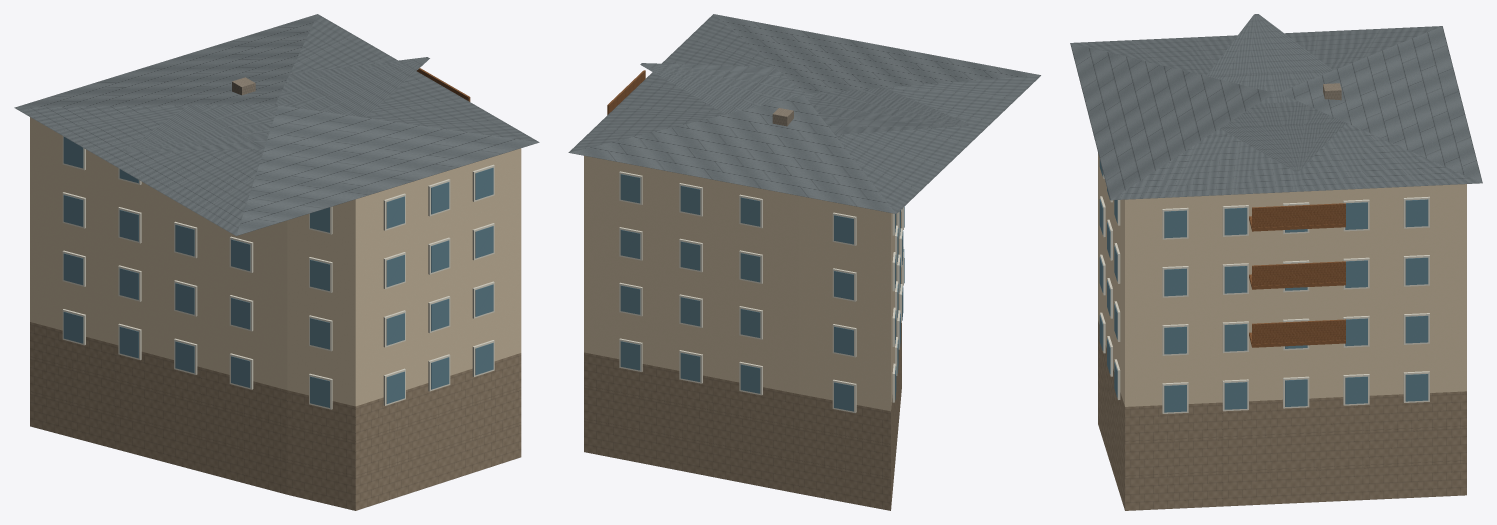
The model's file is core_0084.gltf.
3 views of the same model, side by side, from view 1: azimuth 30°, elevation 25°; view 2: azimuth 150°, elevation 25°; view 3: azimuth 270°, elevation 25° (orthographic). The views are drawn at different scales.
Parts seen in each view (by area): view 1: core_0084; view 2: core_0084; view 3: core_0084.
Boxes of the visible parts, x1=… form: core_0084: x1=14, y1=14, x2=539, y2=510; core_0084: x1=568, y1=14, x2=1040, y2=510; core_0084: x1=1070, y1=14, x2=1482, y2=510.
Size of the model in its own units: 18.44 by 16.65 by 18.34.
7 materials, 7 textured.
